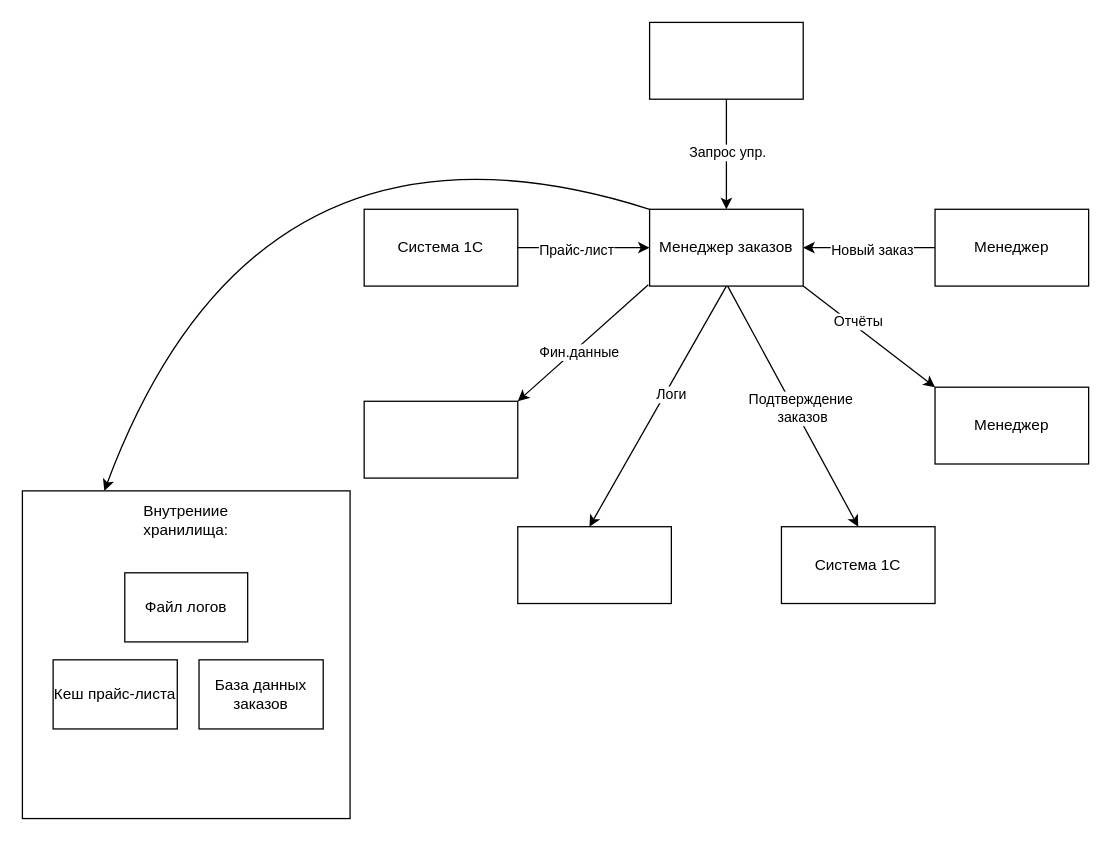
Some shapes in this 1111 by 841 pixel diagram are drawn without their labels. Each missing label, with the centre of its shape:
Администратор баз данных: the point at 593,564
Администратор БД: the point at 725,60
Бухгалтерия: the point at 440,439
